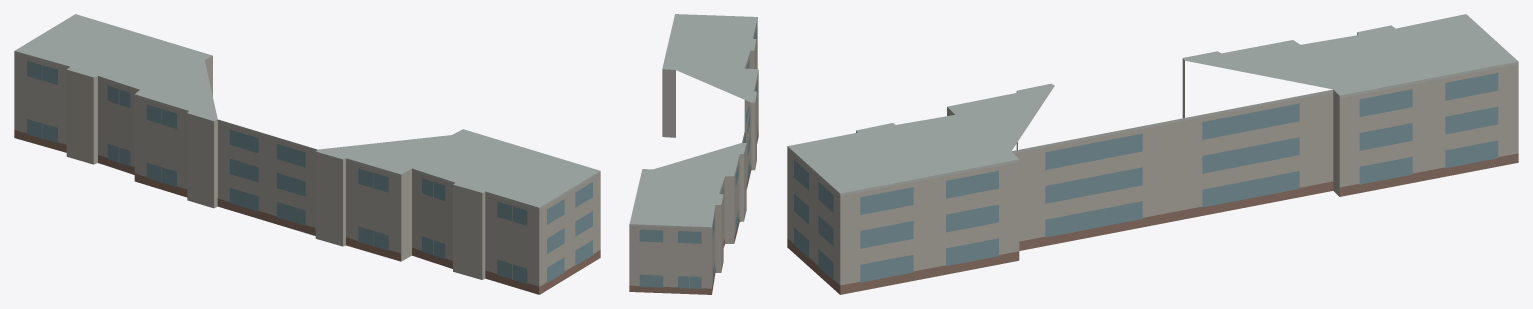
File: survey-upis-32758083.glb
3 views of the same model, side by side, from view 1: azimuth 30°, elevation 25°; view 2: azimuth 150°, elevation 25°; view 3: azimuth 270°, elevation 25° (orthographic). The views are drawn at different scales.
Parts seen in each view (by area): view 1: survey-upis-32758083.tmp; view 2: survey-upis-32758083.tmp; view 3: survey-upis-32758083.tmp.
Part boxes in pixels (x1,y1,x2,y2): survey-upis-32758083.tmp: (14, 14, 600, 294); survey-upis-32758083.tmp: (629, 14, 758, 294); survey-upis-32758083.tmp: (787, 14, 1518, 294).
Size of the model in its own units: 34.8 by 9.15 by 59.85.
